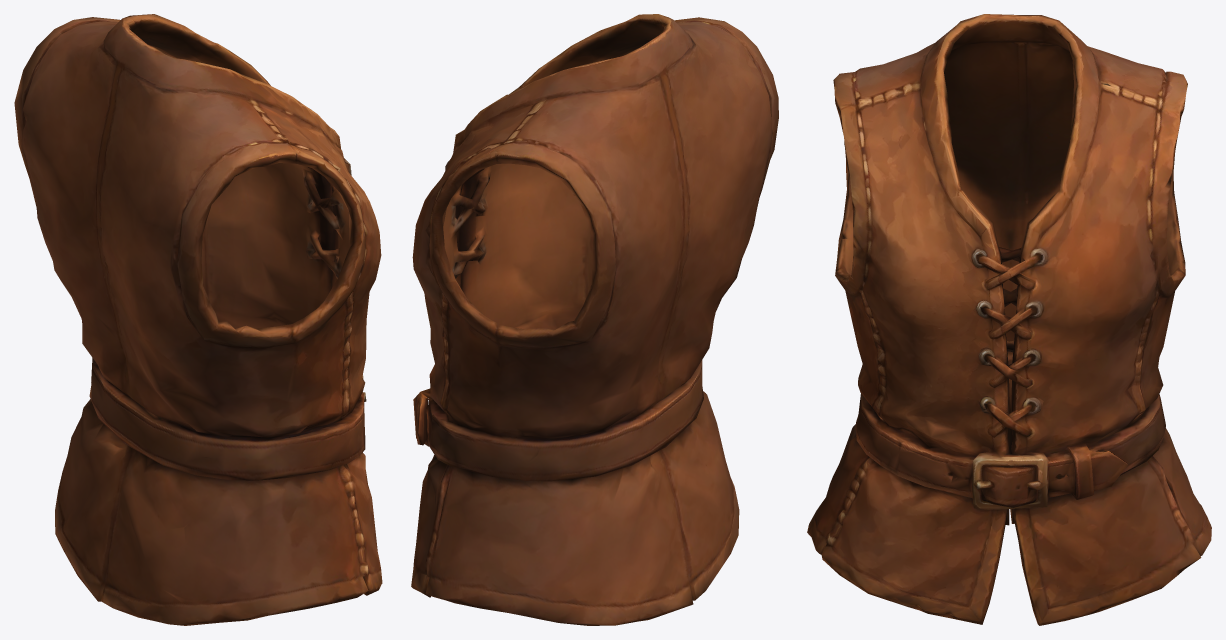
The picture shows the model from 3 angles, left to right: view 1: azimuth 30°, elevation 25°; view 2: azimuth 150°, elevation 25°; view 3: azimuth 270°, elevation 25°; orthographic projection. The views are drawn at different scales.
Parts seen in each view (by area): view 1: tripo_node_42c9c7bc-cd54-4416-89e0-6f2f435a9037; view 2: tripo_node_42c9c7bc-cd54-4416-89e0-6f2f435a9037; view 3: tripo_node_42c9c7bc-cd54-4416-89e0-6f2f435a9037.
Part boxes in pixels (x1=…): tripo_node_42c9c7bc-cd54-4416-89e0-6f2f435a9037: x1=14, y1=14, x2=382, y2=625; tripo_node_42c9c7bc-cd54-4416-89e0-6f2f435a9037: x1=411, y1=14, x2=778, y2=625; tripo_node_42c9c7bc-cd54-4416-89e0-6f2f435a9037: x1=807, y1=14, x2=1211, y2=625.
Bounding box in the file's own units: 0.4842 × 1 × 0.697.
1 material, 1 textured.
